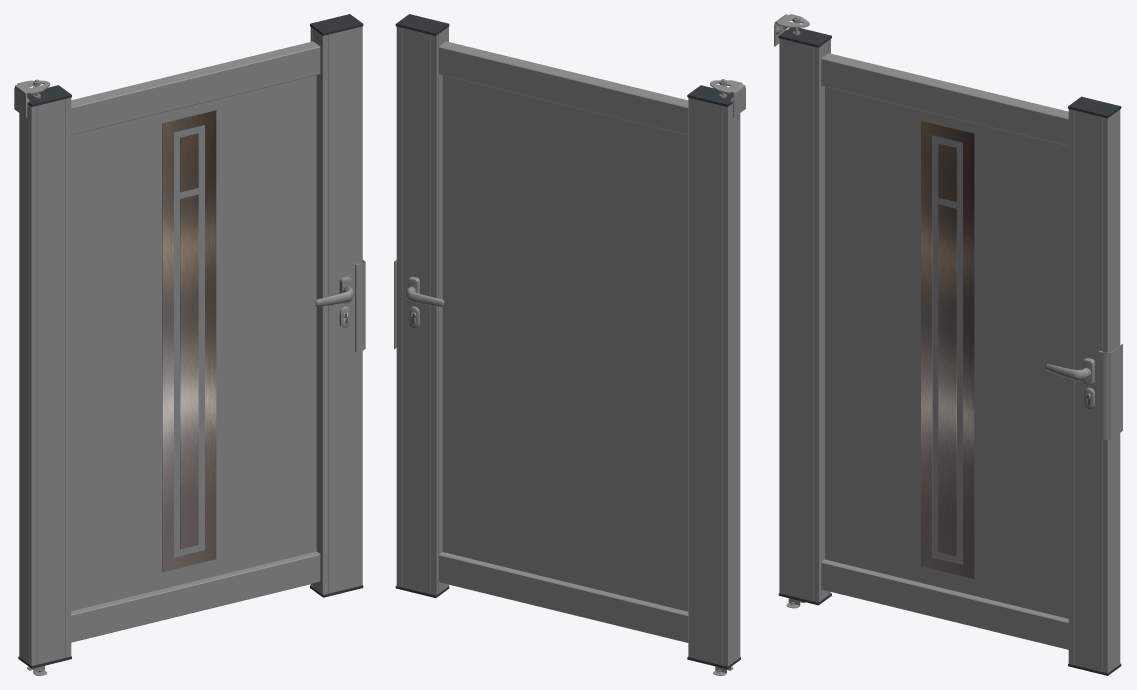
The picture shows the model from 3 angles, left to right: view 1: azimuth 30°, elevation 25°; view 2: azimuth 150°, elevation 25°; view 3: azimuth 330°, elevation 25°; orthographic projection.
Parts seen in each view (by area): view 1: chip001, Shape107412643, Shape107412644, silbaInverse, Shape107412686, Shape107412685, Shape107412637, Box2403, Rectangle057, Box2401; view 2: chip001, Shape107412643, Shape107412644, Shape107412686, Shape107412685, Box2403, Rectangle057, Box2401; view 3: chip001, Shape107412644, Shape107412643, silbaInverse, Shape107412686, Shape107412685, Shape107412637, Box2403, Box2401.
Part boxes in pixels (x1,y1,x2,y2): chip001: (71, 75, 316, 611); Shape107412643: (19, 97, 71, 665); Shape107412644: (310, 26, 362, 594); silbaInverse: (162, 110, 216, 572); Shape107412686: (71, 41, 320, 134); Shape107412685: (71, 551, 320, 642); Shape107412637: (355, 260, 365, 352); Box2403: (310, 14, 363, 35); Rectangle057: (14, 80, 50, 117); Box2401: (26, 85, 71, 106); chip001: (442, 75, 688, 611); Shape107412643: (688, 97, 740, 666); Shape107412644: (396, 26, 448, 595); Shape107412686: (438, 41, 688, 134); Shape107412685: (438, 552, 688, 642); Box2403: (395, 14, 449, 35); Rectangle057: (710, 80, 745, 117); Box2401: (687, 85, 733, 106); chip001: (825, 87, 1068, 618); Shape107412644: (1068, 109, 1120, 672); Shape107412643: (779, 38, 830, 602); silbaInverse: (921, 120, 974, 578); Shape107412686: (821, 53, 1068, 145); Shape107412685: (821, 559, 1068, 649); Shape107412637: (1098, 344, 1122, 439); Box2403: (1068, 96, 1121, 118); Box2401: (778, 27, 831, 47).
Bounding box in the file's own units: 1014 × 1688 × 171.
Materials: 8 (4 with a texture image).
